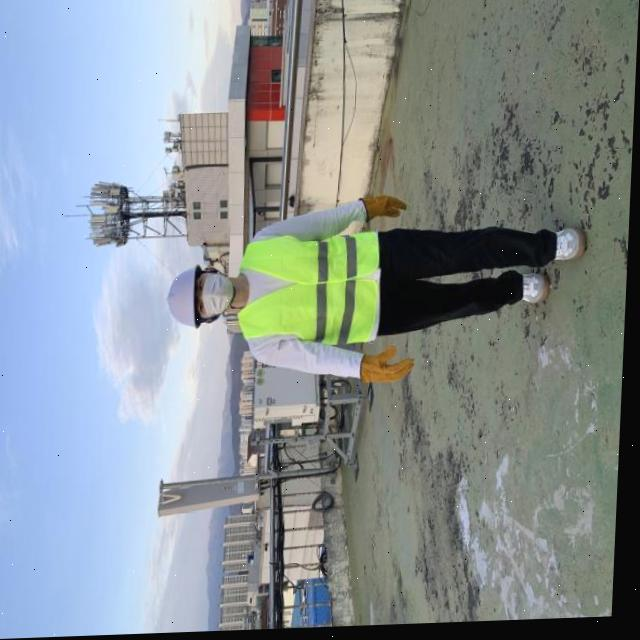Gloves: (363, 347, 419, 387), (360, 196, 409, 226)
Helmet: (167, 264, 209, 333)
Safety-Boot: (554, 230, 589, 266), (523, 275, 553, 309)
Safety-Vest: (237, 232, 386, 353)
